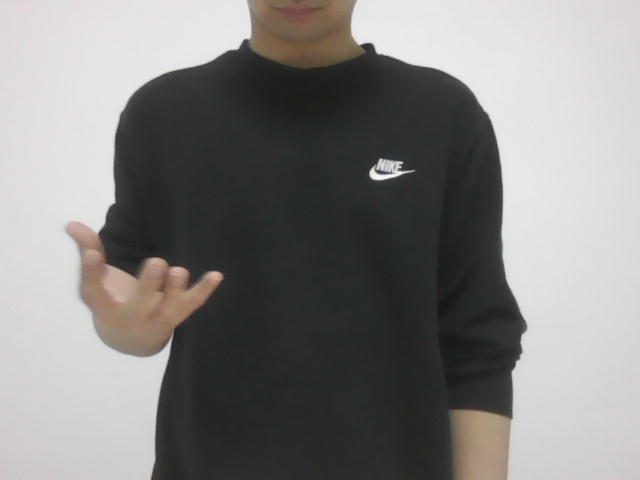flavor: (52, 213, 225, 351)
